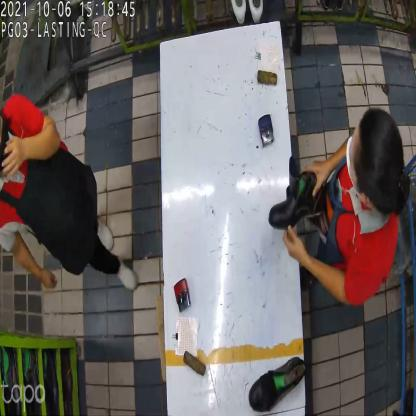shoes: (246, 164, 333, 414)
stamp: (256, 114, 276, 150), (174, 280, 193, 315)
